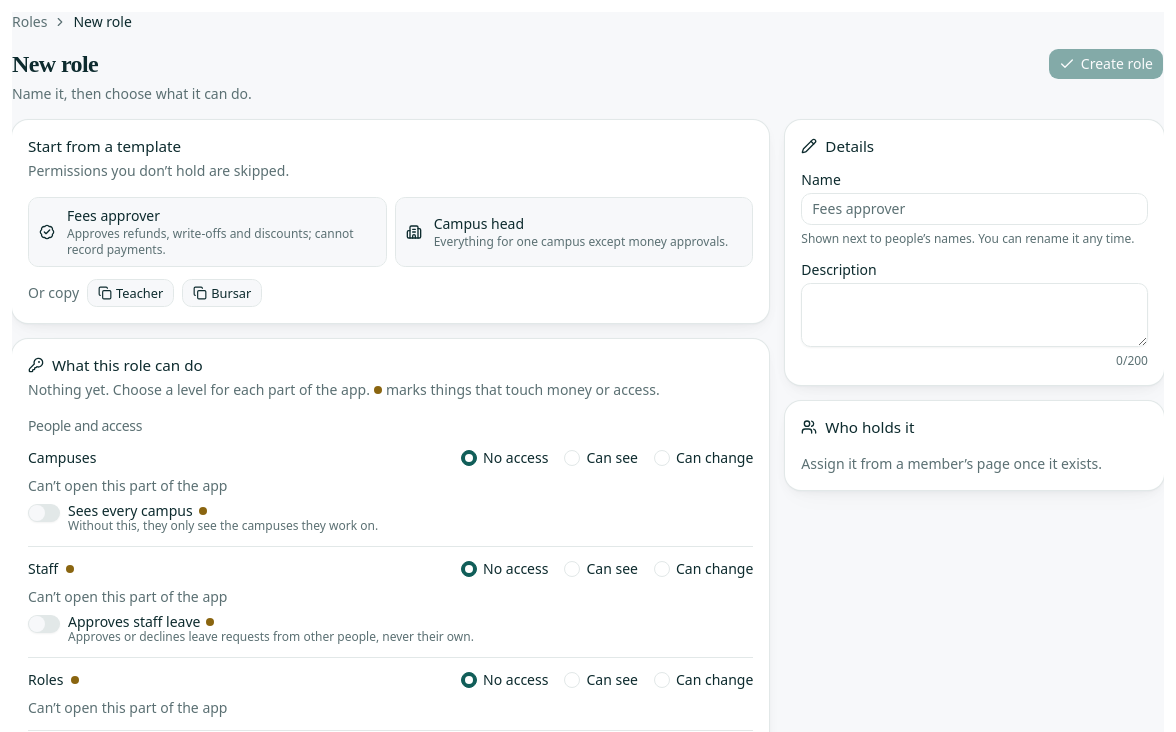
RolePage copy › offers one button per role while there are four or fewer
What coordinates should you click on to do the following:
click the button "Bursar"
I would click on:
 (222, 293)
Its box is [182,279,262,307].
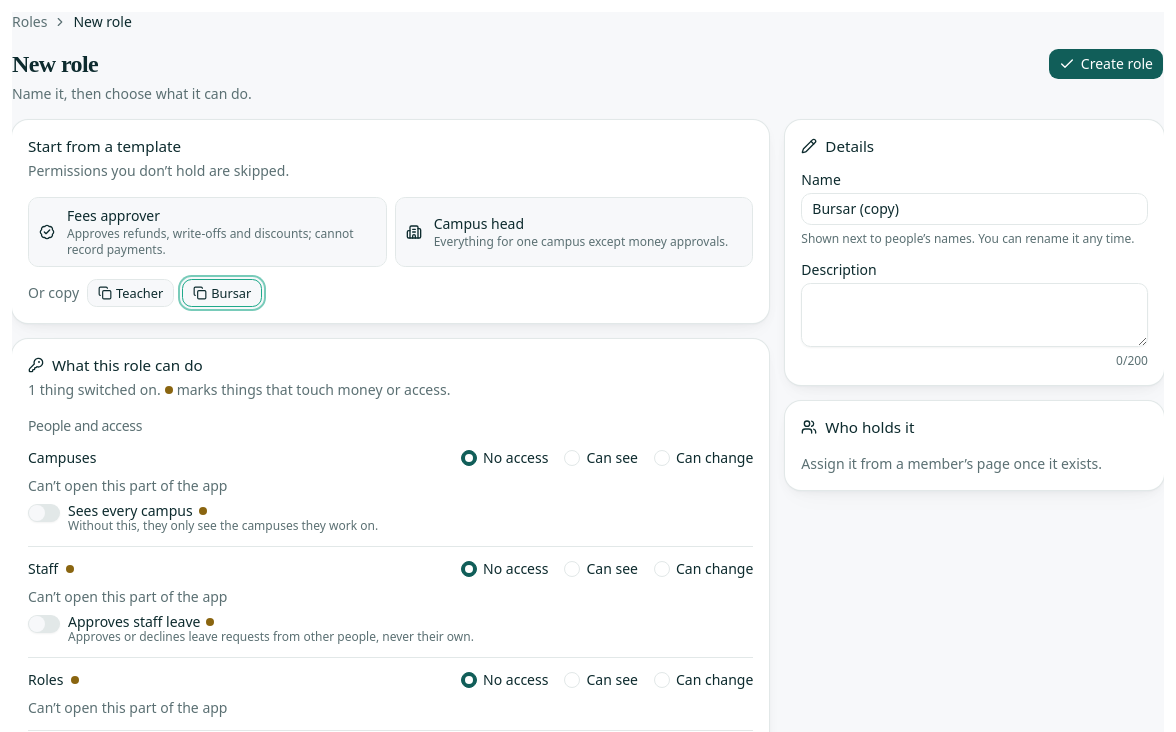
Expected: the button "Teacher" is shown, [87,279,174,307]
Now the field labelled "Name" holds "Bursar (copy)", box [801,193,1148,225]
